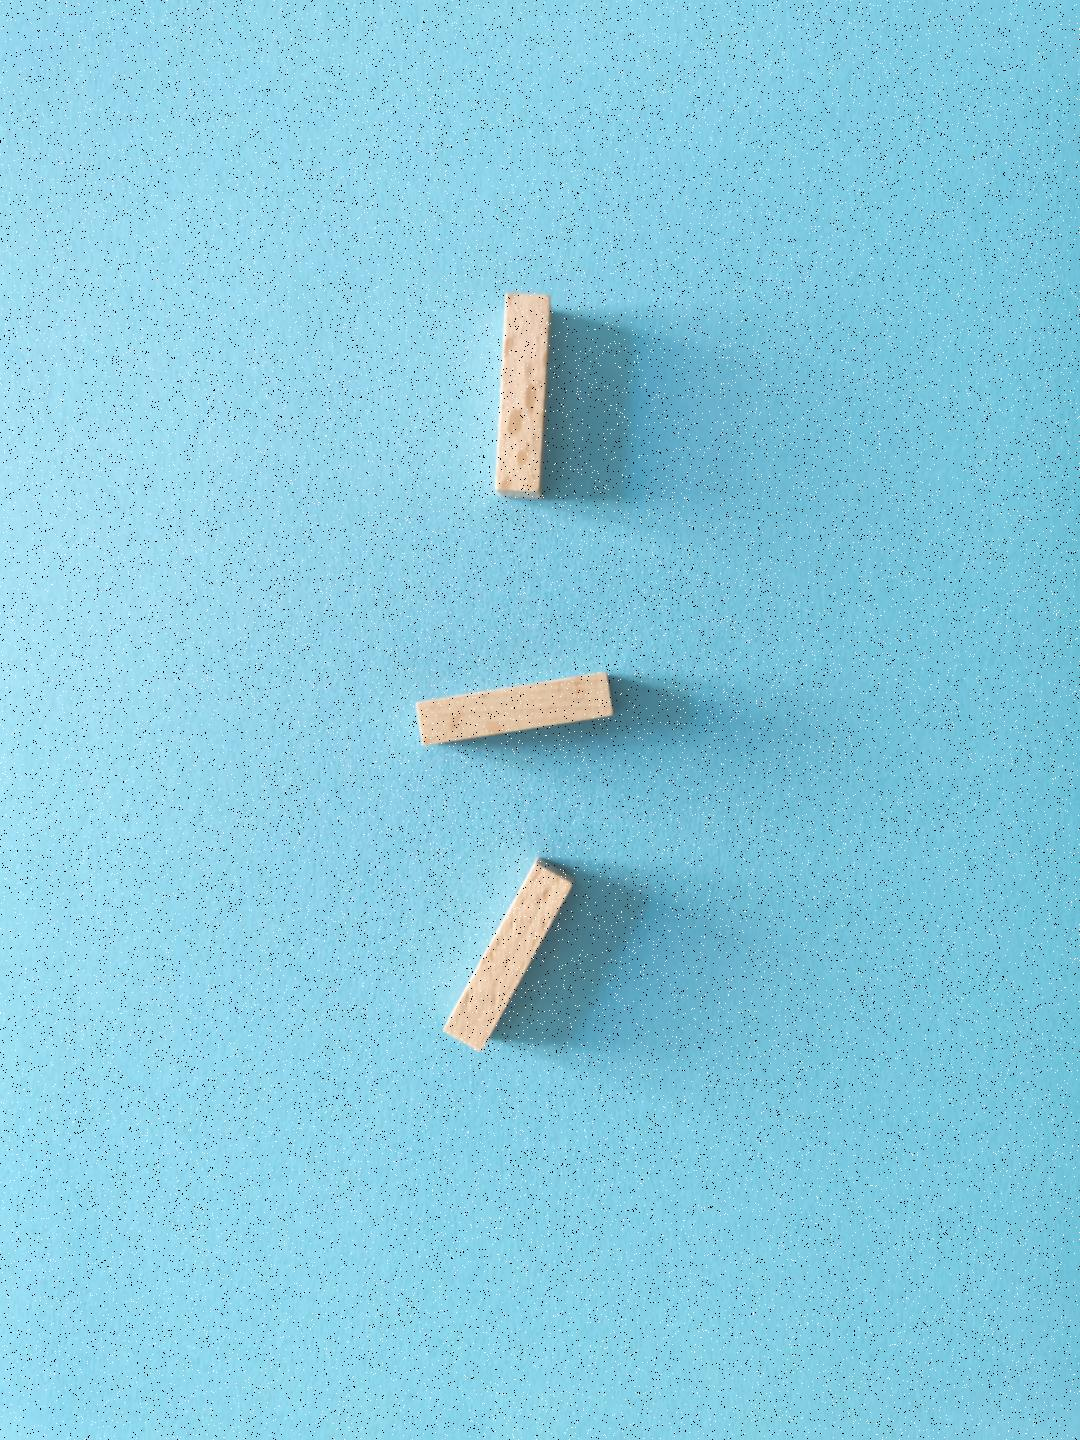jenga: (445, 861, 574, 1052), (416, 672, 613, 745), (495, 293, 551, 498)
